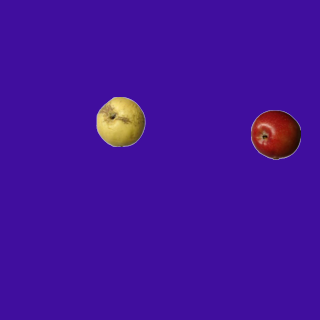Apple Braeburn: (250, 109, 300, 159)
Apple Golden 1: (95, 96, 145, 146)
